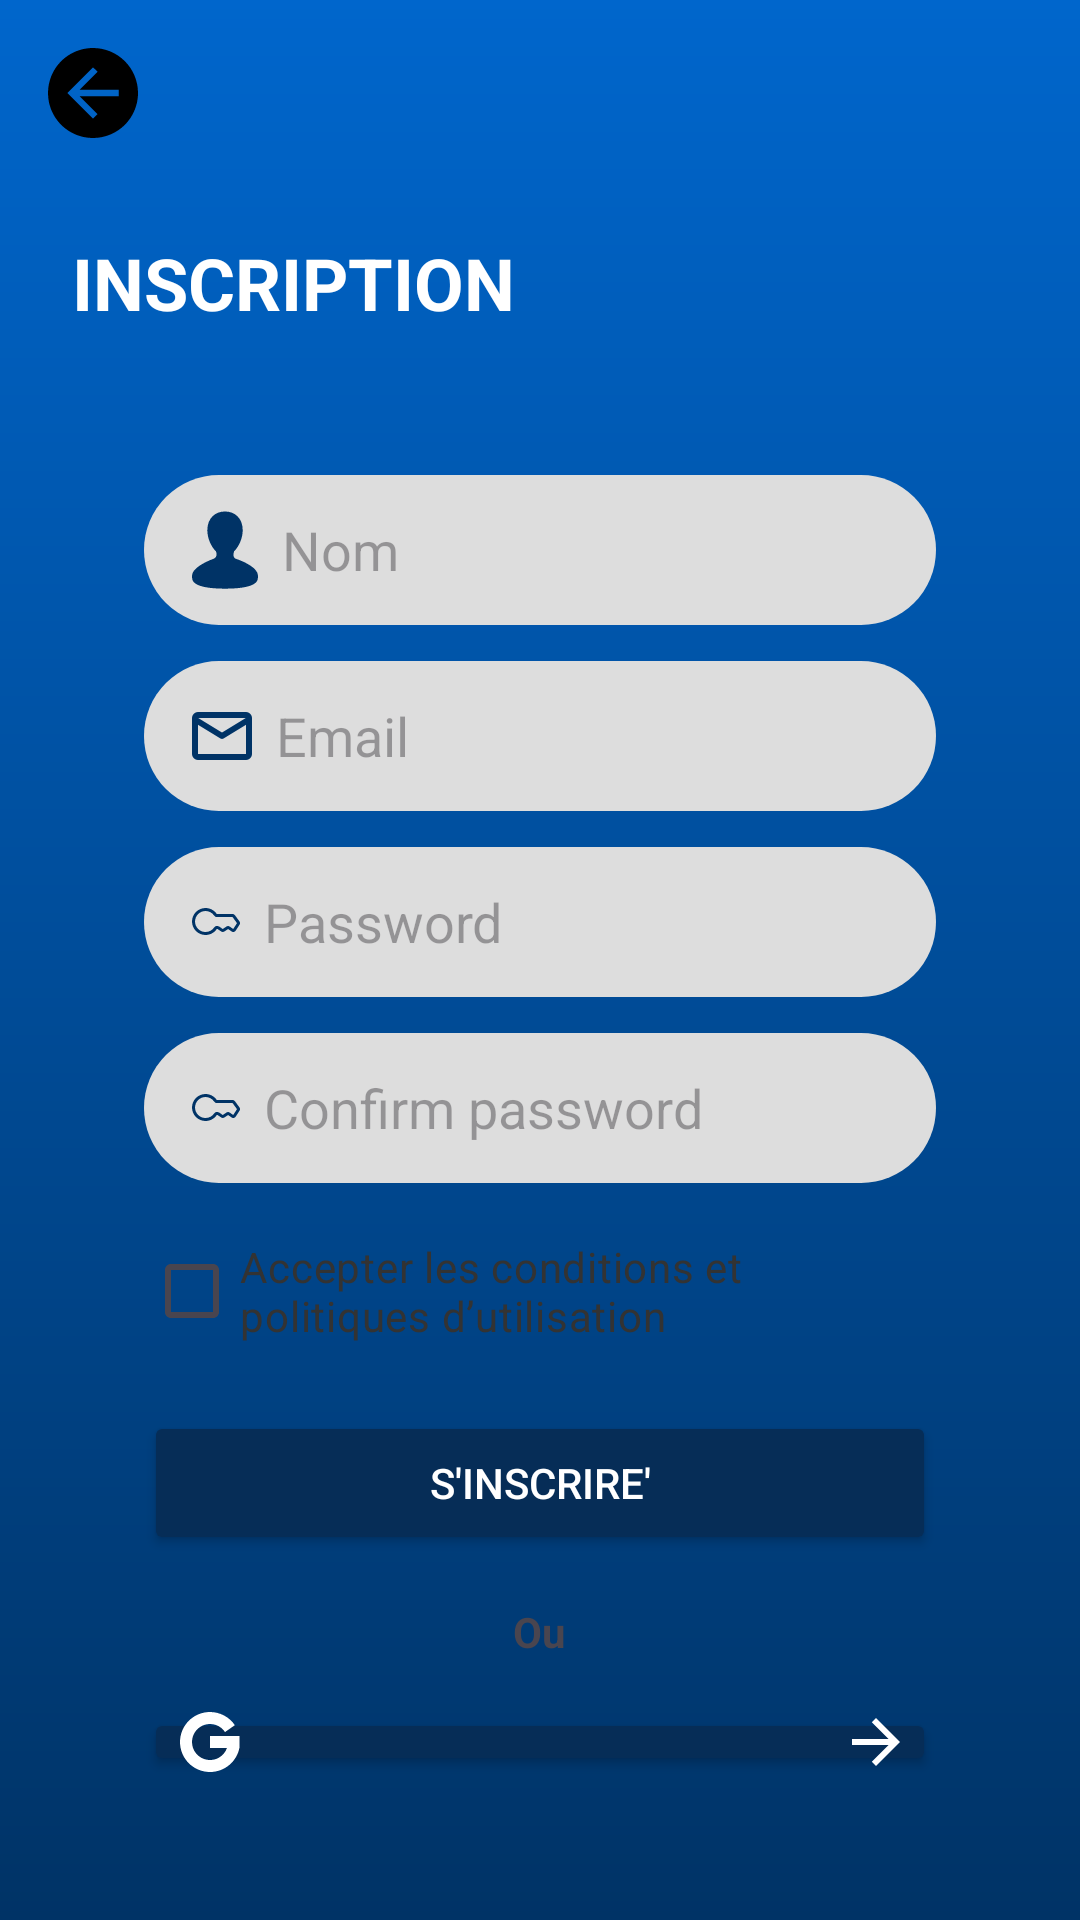

Icons on this 1080 × 1920 Android screen, each with the point to tap as (x=x, y=y):
Back: (x=93, y=93)
